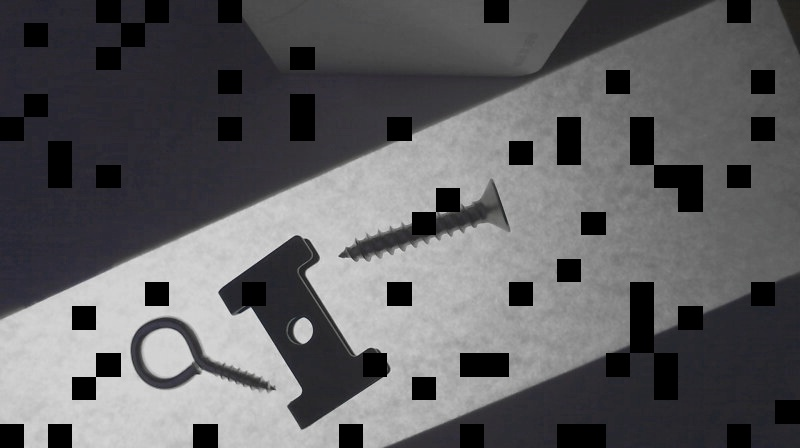O001: (128, 314, 278, 395)
O002: (216, 235, 394, 430)
S001: (336, 178, 510, 262)
